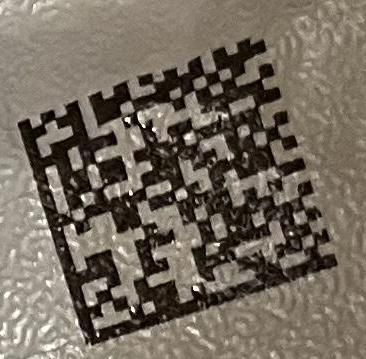datamatrix: (18, 36, 340, 347)
